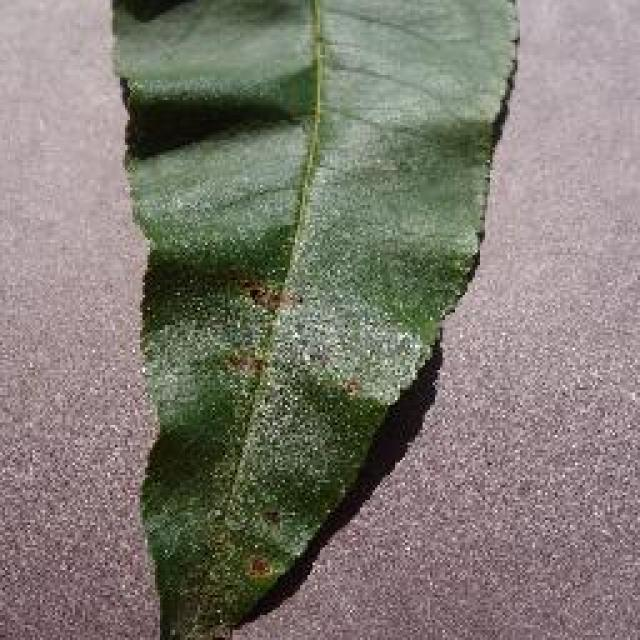Peach_Bacterial_Spot: (177, 197, 345, 583)
